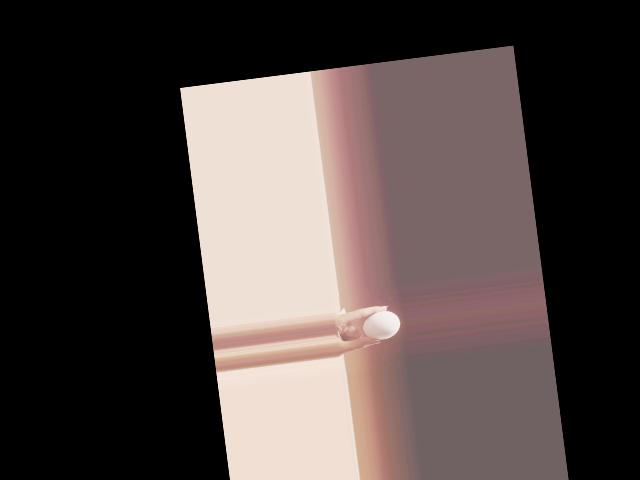egg: (360, 309, 401, 342)
